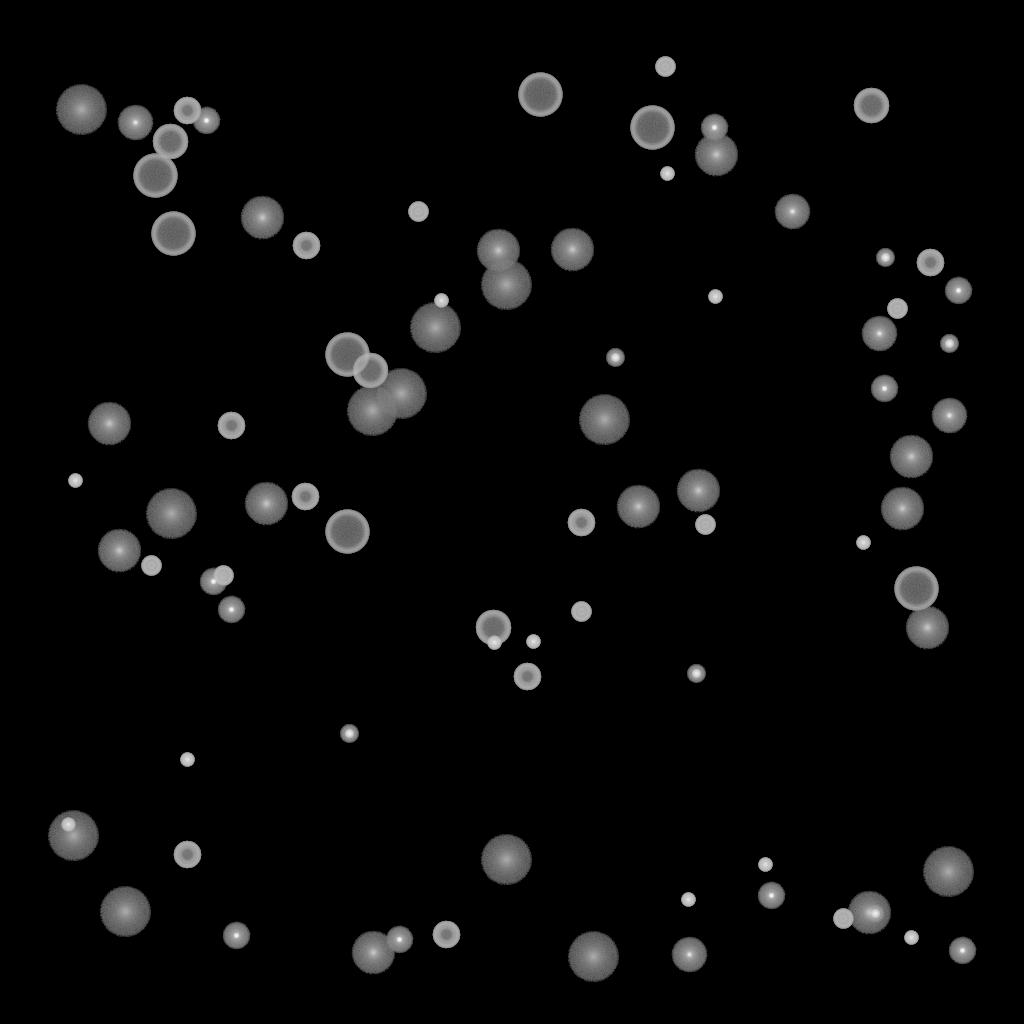depth:-10: (948, 937, 976, 965), (217, 596, 245, 624), (199, 568, 227, 596), (944, 277, 972, 305), (700, 114, 728, 142), (385, 926, 413, 954), (192, 107, 220, 135), (757, 882, 785, 910), (222, 922, 250, 950), (870, 375, 898, 403)
depth:-20: (606, 349, 624, 367), (940, 335, 958, 353), (876, 249, 894, 267), (866, 905, 884, 923), (340, 725, 358, 743), (687, 665, 705, 683)
depth:-30: (660, 167, 674, 181), (434, 294, 448, 308), (487, 636, 501, 650), (904, 931, 918, 945), (526, 635, 540, 649), (758, 858, 772, 872), (708, 290, 722, 304), (180, 753, 194, 767), (856, 536, 870, 550), (61, 818, 75, 832), (681, 893, 695, 907), (68, 474, 82, 488)
depth:-40: (213, 566, 233, 586), (887, 299, 907, 319), (571, 602, 591, 622), (655, 57, 675, 77), (141, 556, 161, 576), (695, 515, 715, 535), (833, 909, 853, 929), (408, 202, 428, 222)
depth:-50: (173, 841, 201, 869), (432, 921, 460, 949), (292, 232, 320, 260), (173, 97, 201, 125), (513, 663, 541, 691), (217, 412, 245, 440), (916, 249, 944, 277), (567, 509, 595, 537), (291, 483, 319, 511)
depth:-60: (152, 124, 188, 160), (475, 610, 511, 646), (352, 353, 388, 389), (853, 88, 889, 124)
depth:-70: (133, 154, 177, 198), (325, 333, 369, 377), (894, 567, 938, 611), (518, 73, 562, 117), (325, 510, 369, 554), (630, 106, 674, 150), (151, 212, 195, 256)
depth:0: (117, 105, 153, 141), (931, 398, 967, 434), (671, 937, 707, 973), (774, 194, 810, 230), (861, 316, 897, 352)
depth:10: (847, 891, 891, 935), (476, 229, 520, 273), (676, 469, 720, 513), (905, 606, 949, 650), (694, 133, 738, 177), (889, 435, 933, 479), (351, 931, 395, 975), (244, 482, 288, 526), (880, 487, 924, 531), (550, 228, 594, 272), (240, 196, 284, 240), (97, 529, 141, 573), (87, 402, 131, 446), (616, 485, 660, 529)
depth:20: (567, 932, 619, 982), (480, 835, 532, 885), (47, 811, 99, 861), (346, 386, 398, 436), (480, 260, 532, 310), (99, 887, 151, 937), (145, 489, 197, 539), (922, 847, 974, 897), (55, 85, 107, 135), (578, 395, 630, 445), (409, 303, 461, 353), (375, 369, 427, 419)
